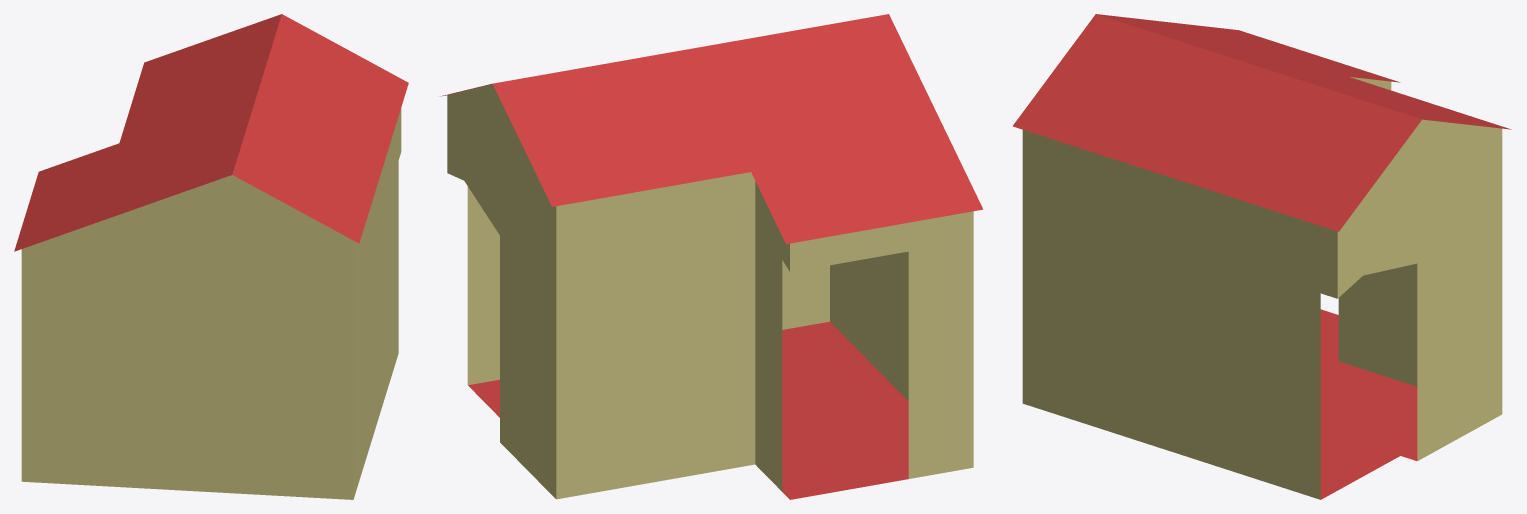
3 views of the same model, side by side, from view 1: azimuth 30°, elevation 25°; view 2: azimuth 150°, elevation 25°; view 3: azimuth 270°, elevation 25° (orthographic). The views are drawn at different scales.
Size of the model in its own units: 18.87 by 17.29 by 13.13.
